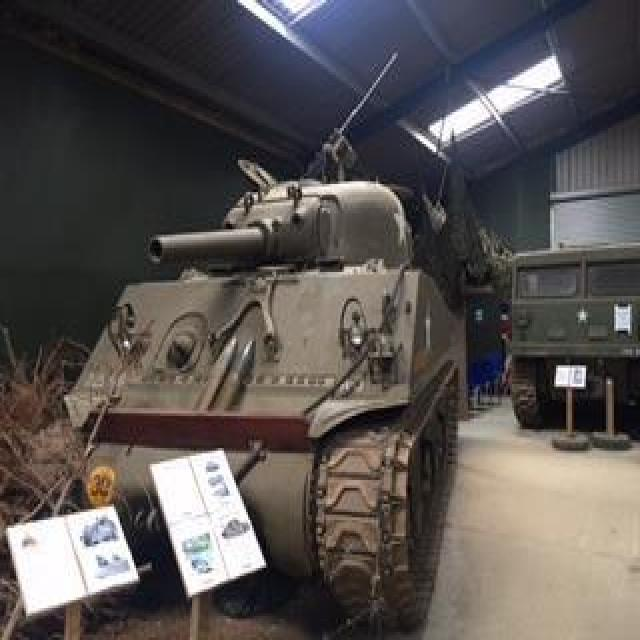MIL_MBT: (77, 163, 443, 459)
